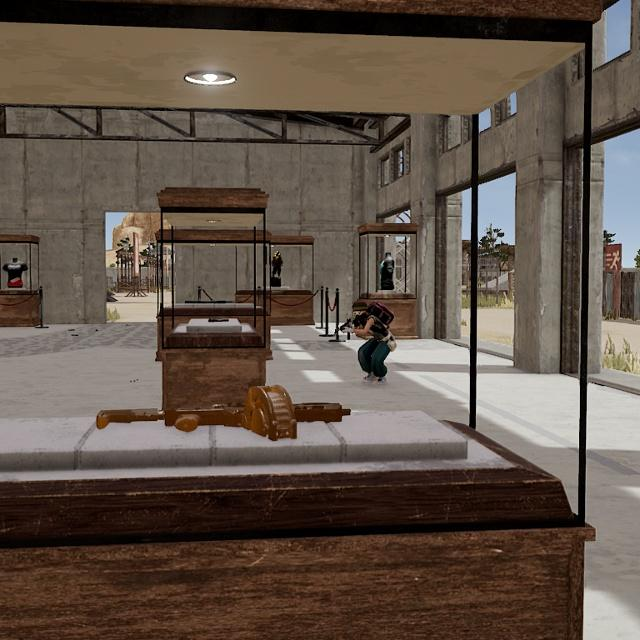head: (351, 300, 370, 323)
people: (350, 298, 396, 387)
